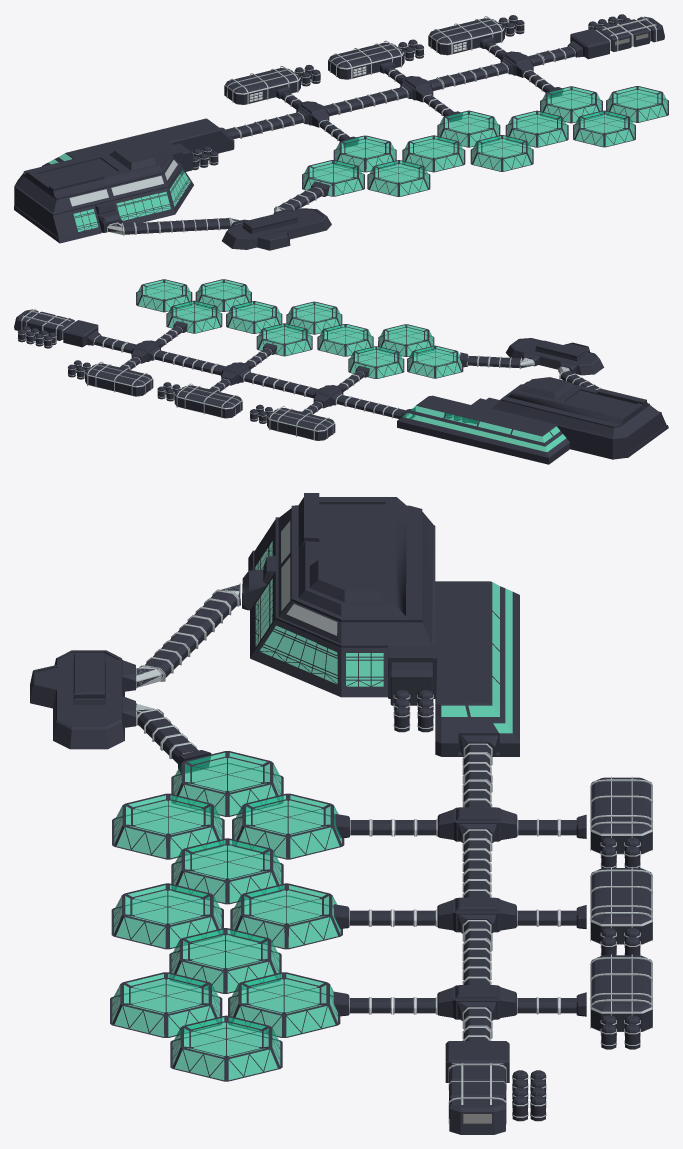
The model's file is building4.glb.
The picture shows the model from 3 angles, top to bottom: view 1: azimuth 30°, elevation 25°; view 2: azimuth 150°, elevation 25°; view 3: azimuth 270°, elevation 25°; orthographic projection. The views are drawn at different scales.
Parts seen in each view (by area): view 1: Cube (2)_28, Cube (17)_29, Cube (24)_48, Hex_greenGlass (5)_55, Hex_greenGlass (3)_53, Hex_greenGlass (8)_58, Cube (23)_47, Hex_greenGlass (4)_54, Hex_greenGlass (7)_57, Cube (21)_31, Hex_greenGlass (10)_60, Cube (7)_27 (+7 smaller); view 2: Cube (2)_28, Cube (17)_29, Cube (24)_48, Cube (7)_27, Cube (23)_47, Cube (21)_31, Hex_greenGlass (11)_61, Hex_greenGlass (4)_54, Hex_greenGlass (7)_57, Hex_greenGlass (10)_60, Hex_greenGlass (5)_55, Hex_greenGlass (8)_58 (+7 smaller); view 3: Cube (2)_28, Cube (17)_29, Hex_greenGlass (10)_60, Hex_greenGlass (3)_53, Hex_greenGlass (5)_55, Hex_greenGlass (8)_58, Hex_greenGlass (9)_59, Hex_greenGlass (6)_56, Hex_greenGlass_52, Hex_greenGlass (4)_54, Hex_greenGlass (7)_57, Hex_greenGlass (11)_61 (+7 smaller).
Part boxes in pixels (<box>): Cube (2)_28: <box>14,118,234,243</box>; Cube (17)_29: <box>222,208,331,250</box>; Cube (24)_48: <box>570,16,664,59</box>; Hex_greenGlass (5)_55: <box>470,135,533,171</box>; Hex_greenGlass (3)_53: <box>367,160,430,196</box>; Hex_greenGlass (8)_58: <box>573,110,635,147</box>; Cube (23)_47: <box>428,18,504,55</box>; Hex_greenGlass (4)_54: <box>402,135,465,172</box>; Hex_greenGlass (7)_57: <box>505,110,568,147</box>; Cube (21)_31: <box>224,68,300,104</box>; Hex_greenGlass (10)_60: <box>606,86,668,122</box>; Cube (7)_27: <box>328,42,404,79</box>; Cube (2)_28: <box>397,377,668,464</box>; Cube (17)_29: <box>505,338,603,375</box>; Cube (24)_48: <box>14,309,98,347</box>; Cube (7)_27: <box>174,385,242,418</box>; Cube (23)_47: <box>85,363,153,396</box>; Cube (21)_31: <box>267,408,335,440</box>; Hex_greenGlass (11)_61: <box>407,345,463,378</box>; Hex_greenGlass (4)_54: <box>317,324,373,356</box>; Hex_greenGlass (7)_57: <box>226,301,282,333</box>; Hex_greenGlass (10)_60: <box>136,279,192,312</box>; Hex_greenGlass (5)_55: <box>286,301,342,334</box>; Hex_greenGlass (8)_58: <box>195,279,251,311</box>; Cube (2)_28: <box>242,493,519,756</box>; Cube (17)_29: <box>30,650,124,749</box>; Hex_greenGlass (10)_60: <box>170,1015,282,1081</box>; Hex_greenGlass (3)_53: <box>112,793,224,859</box>; Hex_greenGlass (5)_55: <box>111,883,223,949</box>; Hex_greenGlass (8)_58: <box>110,972,222,1037</box>; Hex_greenGlass (9)_59: <box>228,972,340,1037</box>; Hex_greenGlass (6)_56: <box>230,883,342,949</box>; Hex_greenGlass_52: <box>232,793,344,859</box>; Hex_greenGlass (4)_54: <box>171,838,283,904</box>; Hex_greenGlass (7)_57: <box>169,928,281,993</box>; Hex_greenGlass (11)_61: <box>171,751,283,816</box>.
Bounding box in the file's own units: 79.88 × 5.13 × 36.33.
